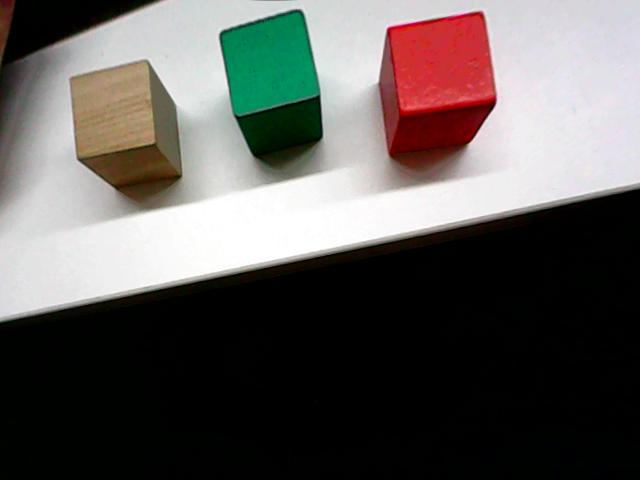green_box: (216, 7, 326, 160)
raw_box: (66, 55, 186, 202)
red_box: (375, 8, 500, 159)
